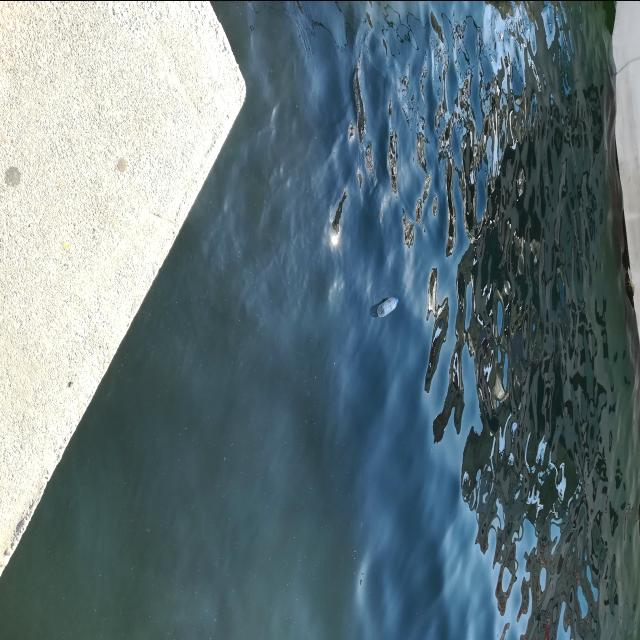Clear plastic bottle: (377, 296, 398, 316)
